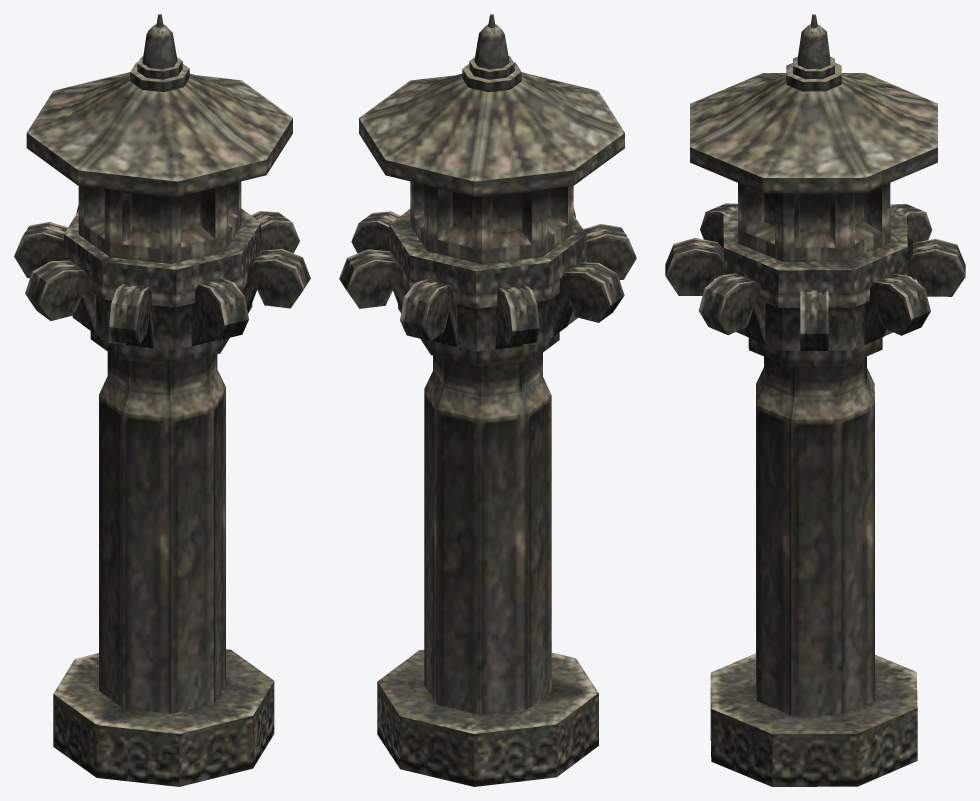
Rendered from c1-004-house2_02_01.fbx.
3 renders of one model, left to right at view 1: azimuth 30°, elevation 25°; view 2: azimuth 150°, elevation 25°; view 3: azimuth 270°, elevation 25°, orthographic.
Parts seen in each view (by area): view 1: a1-018-stonelight-01; view 2: a1-018-stonelight-01; view 3: a1-018-stonelight-01.
Part boxes in pixels (x1=…): a1-018-stonelight-01: x1=14, y1=14, x2=310, y2=786; a1-018-stonelight-01: x1=339, y1=14, x2=636, y2=786; a1-018-stonelight-01: x1=665, y1=14, x2=965, y2=786.
Bounding box in the file's own units: 1.87 × 4.99 × 1.87.
